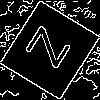Z: (25, 25, 81, 75)
